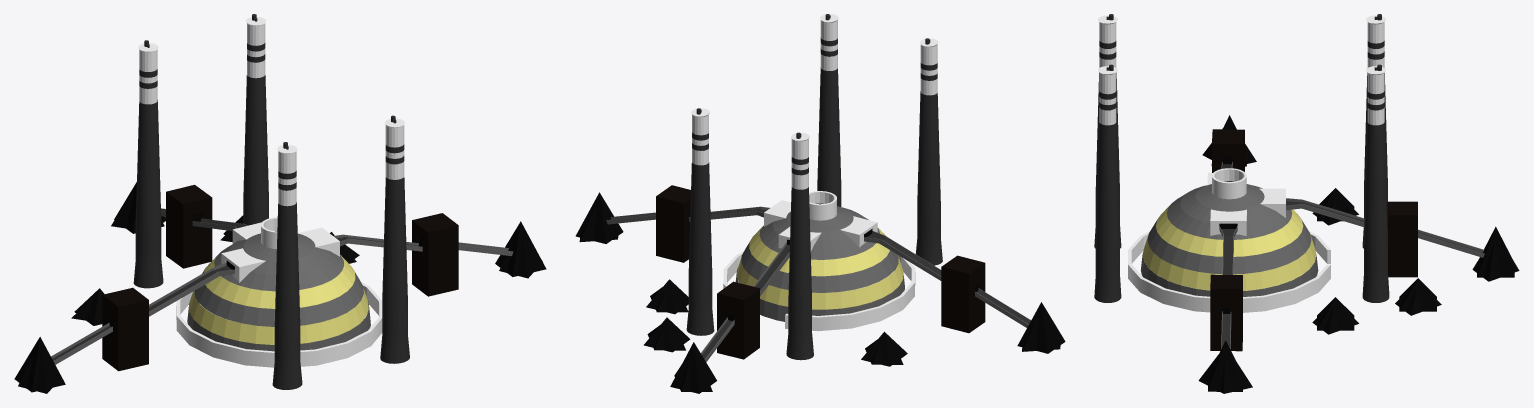
File: Coal Plant 4.FBX
The picture shows the model from 3 angles, left to right: view 1: azimuth 30°, elevation 25°; view 2: azimuth 150°, elevation 25°; view 3: azimuth 270°, elevation 25°; orthographic projection. The views are drawn at different scales.
Parts seen in each view (by area): view 1: Plant Body, Coal Trait Left, Coal Trait Right, Coal Trait Front, Smoke Stack 2, Smoke Stack 3, Smoke Stack 1, Smoke Stack 4; view 2: Plant Body, Coal Trait Front, Coal Trait Left, Coal Trait Right, Smoke Stack 3, Smoke Stack 4, Smoke Stack 1, Smoke Stack 2; view 3: Plant Body, Coal Trait Front, Coal Trait Right, Smoke Stack 2, Smoke Stack 4, Coal Trait Left, Smoke Stack 1, Smoke Stack 3.
Boxes of the visible parts, x1,y1,x2,y2 form: Plant Body: (176, 217, 382, 367); Coal Trait Left: (14, 248, 265, 393); Coal Trait Right: (298, 213, 546, 296); Coal Trait Front: (71, 182, 359, 325); Smoke Stack 2: (380, 115, 409, 363); Smoke Stack 3: (133, 40, 163, 288); Smoke Stack 1: (272, 142, 302, 389); Smoke Stack 4: (243, 14, 268, 225); Plant Body: (723, 191, 915, 331); Coal Trait Front: (644, 226, 907, 393); Coal Trait Left: (840, 216, 1065, 353); Coal Trait Right: (575, 185, 790, 262); Smoke Stack 3: (786, 132, 813, 360); Smoke Stack 4: (686, 108, 714, 335); Smoke Stack 1: (915, 38, 942, 265); Smoke Stack 2: (817, 14, 841, 206); Plant Body: (1128, 168, 1330, 312); Coal Trait Front: (1259, 188, 1519, 334); Coal Trait Right: (1198, 209, 1252, 393); Smoke Stack 2: (1094, 64, 1121, 302); Smoke Stack 4: (1362, 64, 1389, 302); Coal Trait Left: (1202, 115, 1256, 185); Smoke Stack 1: (1094, 14, 1121, 248); Smoke Stack 3: (1362, 14, 1387, 248).
Size of the model in its own units: 199 by 87.84 by 146.
